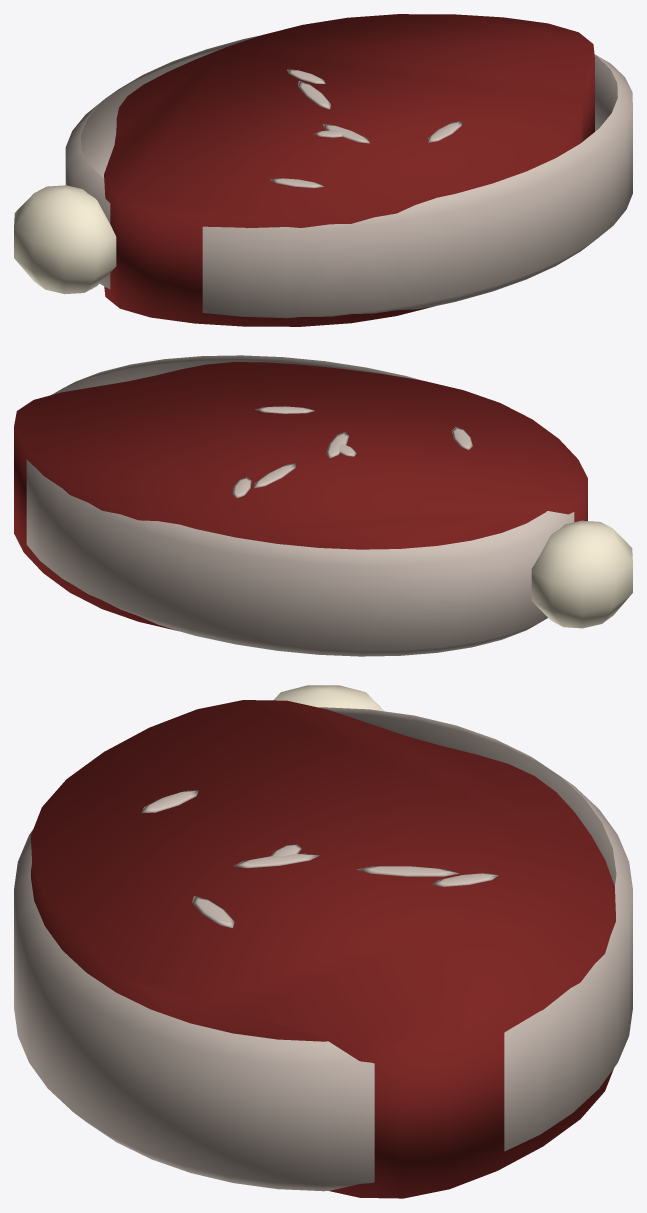
The model's file is wolfsfleisch.glb.
3 renders of one model, top to bottom at view 1: azimuth 30°, elevation 25°; view 2: azimuth 150°, elevation 25°; view 3: azimuth 270°, elevation 25°, orthographic. The views are drawn at different scales.
Parts seen in each view (by area): view 1: Cylinder, fett, Sphere.006; view 2: Cylinder, fett, Sphere.006; view 3: Cylinder, fett, Sphere.006, Sphere.002, Sphere.005.
Boxes of the visible parts, left/top/right/bottom form: Cylinder: left=104, top=14, right=594, bottom=326; fett: left=65, top=35, right=632, bottom=318; Sphere.006: left=14, top=185, right=116, bottom=294; Cylinder: left=14, top=362, right=587, bottom=630; fett: left=26, top=355, right=574, bottom=656; Sphere.006: left=531, top=520, right=632, bottom=628; Cylinder: left=31, top=700, right=615, bottom=1198; fett: left=14, top=707, right=632, bottom=1191; Sphere.006: left=273, top=685, right=383, bottom=711; Sphere.002: left=356, top=866, right=459, bottom=876; Sphere.005: left=233, top=853, right=319, bottom=868.
Bounding box in the file's own units: 0.2162 × 0.0386 × 0.1425.
